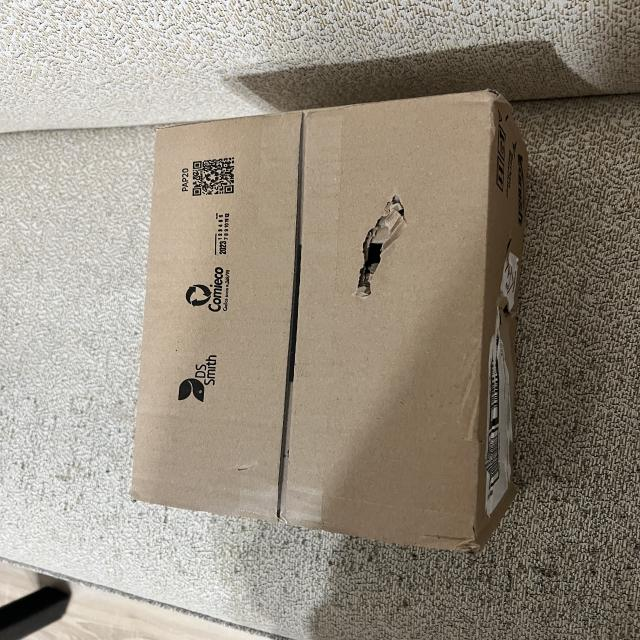damaged: (137, 94, 518, 562), (352, 190, 412, 304)
